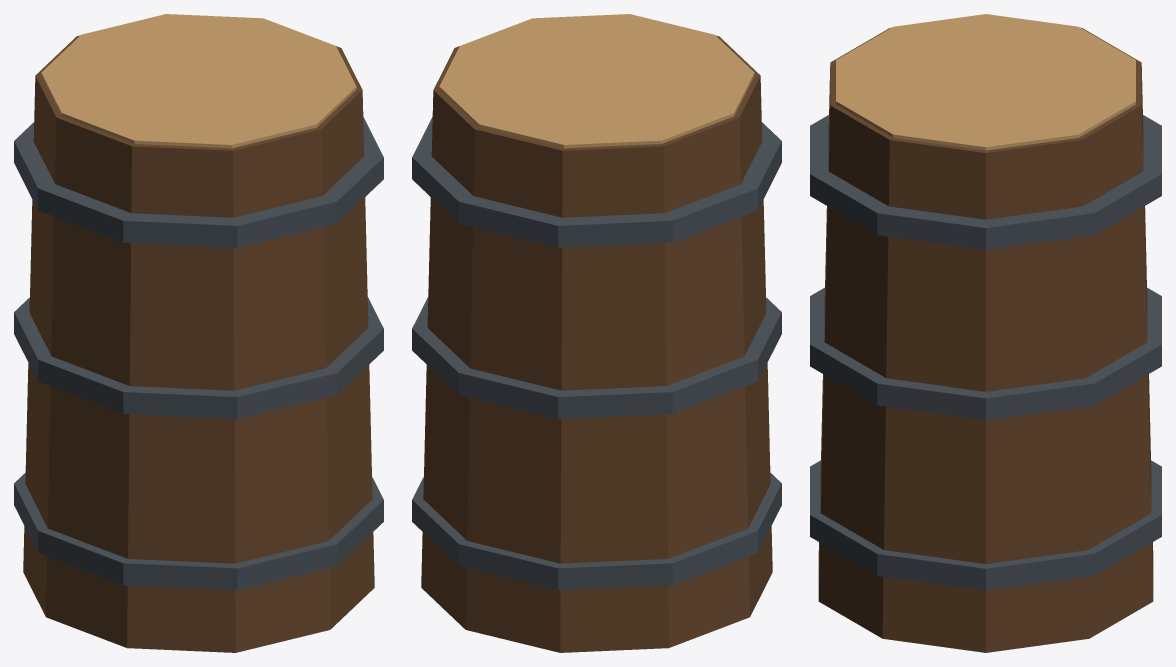
File: GT_Barrel_01.glb
The picture shows the model from 3 angles, left to right: view 1: azimuth 30°, elevation 25°; view 2: azimuth 150°, elevation 25°; view 3: azimuth 270°, elevation 25°; orthographic projection.
Parts seen in each view (by area): view 1: GT_Barrel_01; view 2: GT_Barrel_01; view 3: GT_Barrel_01.
Boxes of the visible parts, x1,y1,x2,y2 form: GT_Barrel_01: (14,14,383,652); GT_Barrel_01: (412,14,781,652); GT_Barrel_01: (810,14,1161,652).
Size of the model in its own units: 0.61 by 0.906 by 0.5801.
Materials: 1 (1 with a texture image).
